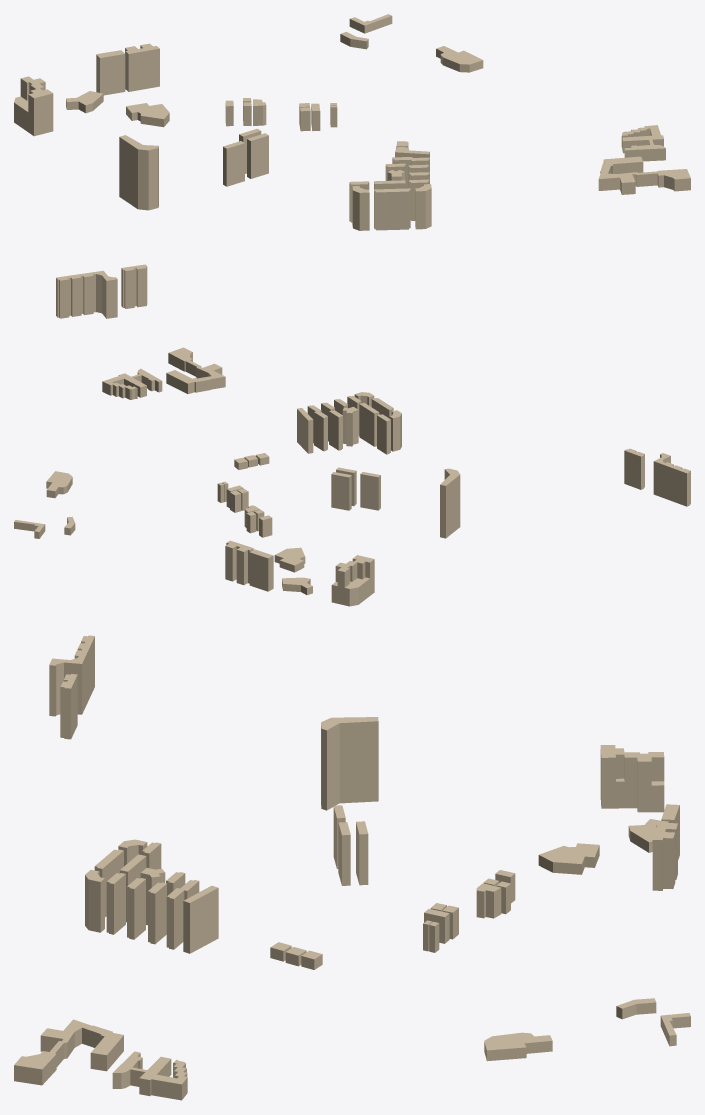
The model's file is -11_-5-estimated-coarse.glb.
3 views of the same model, one above another, from view 1: azimuth 30°, elevation 25°; view 2: azimuth 150°, elevation 25°; view 3: azimuth 270°, elevation 25° (orthographic). The views are drawn at different scales.
Bounding box in the file's own units: 997 × 90 × 689.
